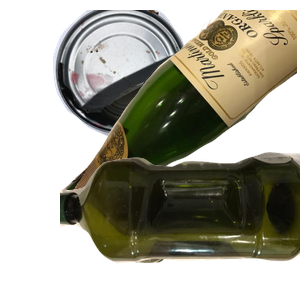glass: (60, 10, 300, 190)
metal: (50, 10, 262, 140)
plastic: (60, 149, 300, 300)
trash: (99, 155, 268, 300)
